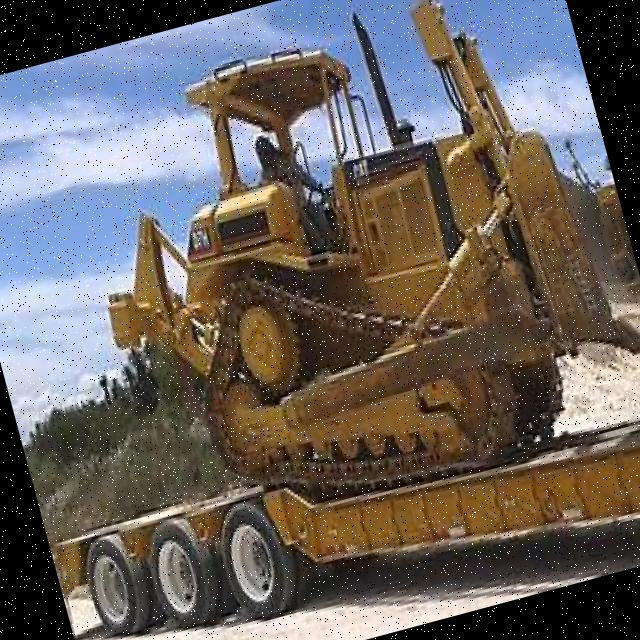Bulldozer: (36, 0, 640, 577)
